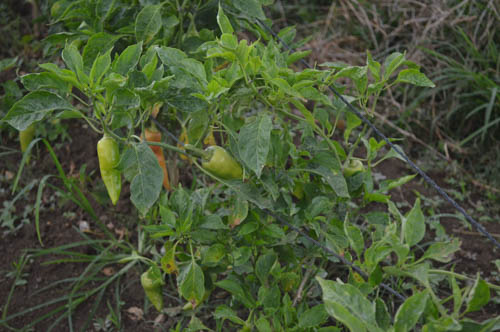ChiliPepper: (95, 140, 126, 203), (206, 147, 241, 179), (139, 274, 164, 309)
